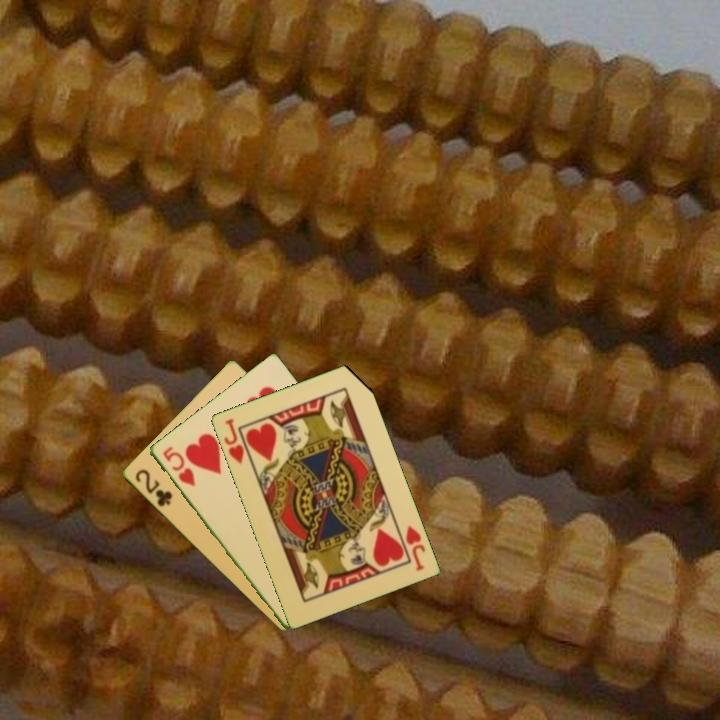2c: (131, 465, 175, 510)
5h: (159, 443, 198, 489)
Jh: (220, 415, 247, 467), (402, 522, 428, 574)
